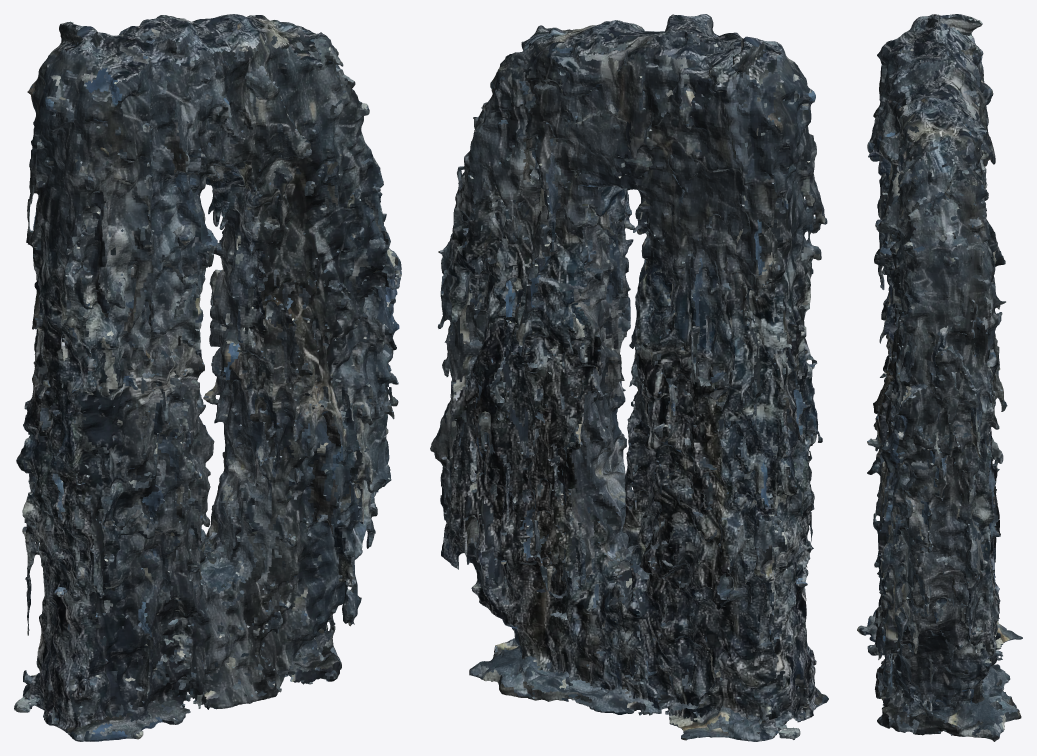
The model's file is BLENDER_TEST_UV_COMPRESSED.glb.
3 views of the same model, side by side, from view 1: azimuth 30°, elevation 25°; view 2: azimuth 150°, elevation 25°; view 3: azimuth 270°, elevation 25° (orthographic). The views are drawn at different scales.
Visible parts, largest first — view 1: Target_Low; view 2: Target_Low; view 3: Target_Low.
Part boxes in pixels (bbox=[...]): Target_Low: bbox=[14, 14, 401, 741]; Target_Low: bbox=[430, 14, 828, 741]; Target_Low: bbox=[857, 14, 1022, 741].
Size of the model in its own units: 2.29 by 4.09 by 0.998.
1 material, 1 textured.
